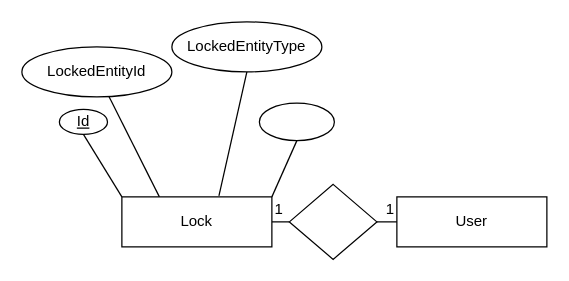
Some shapes in this 569 by 281 pixel diagram are drawn without their labels. The shapes that lost their labels are listed below. From the top down, each one's centre as x and y in pixels, then its label:
(x=296, y=121): Date
(x=332, y=221): by
